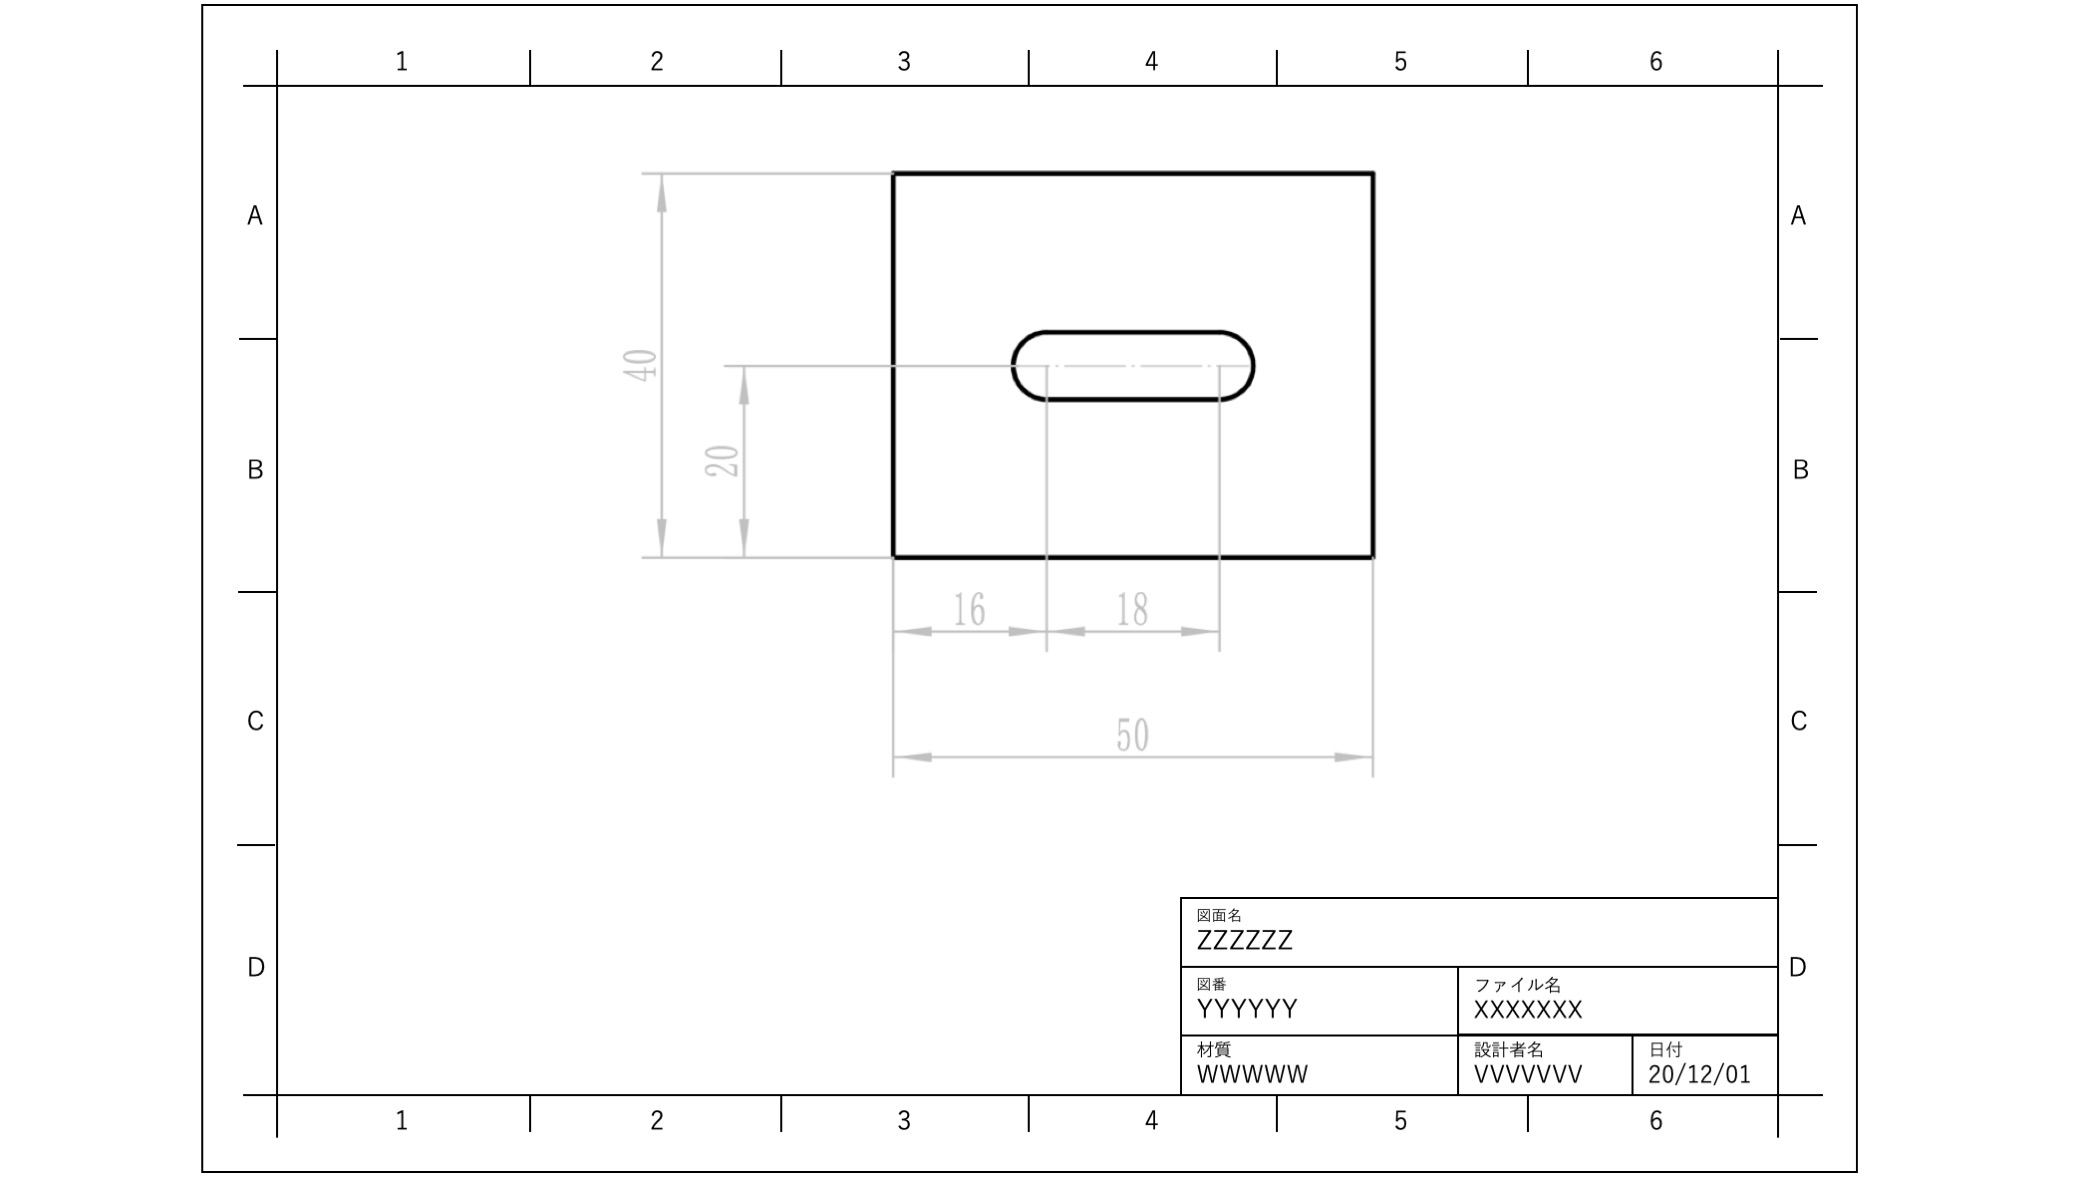round_rectangle: (1002, 314, 1266, 418)
